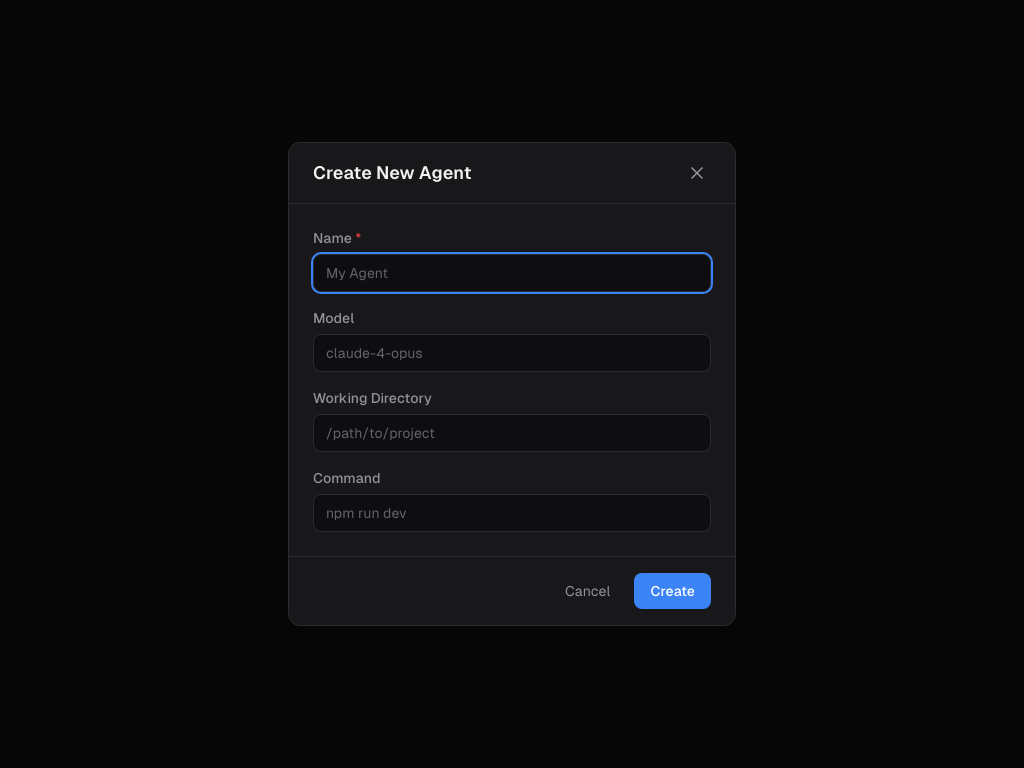
Test: AgentCreateDialog › shows validation error when name is empty on submit
Step 1. Click the button "Create" → x=673, y=591, box left=634, top=573, right=711, bottom=609
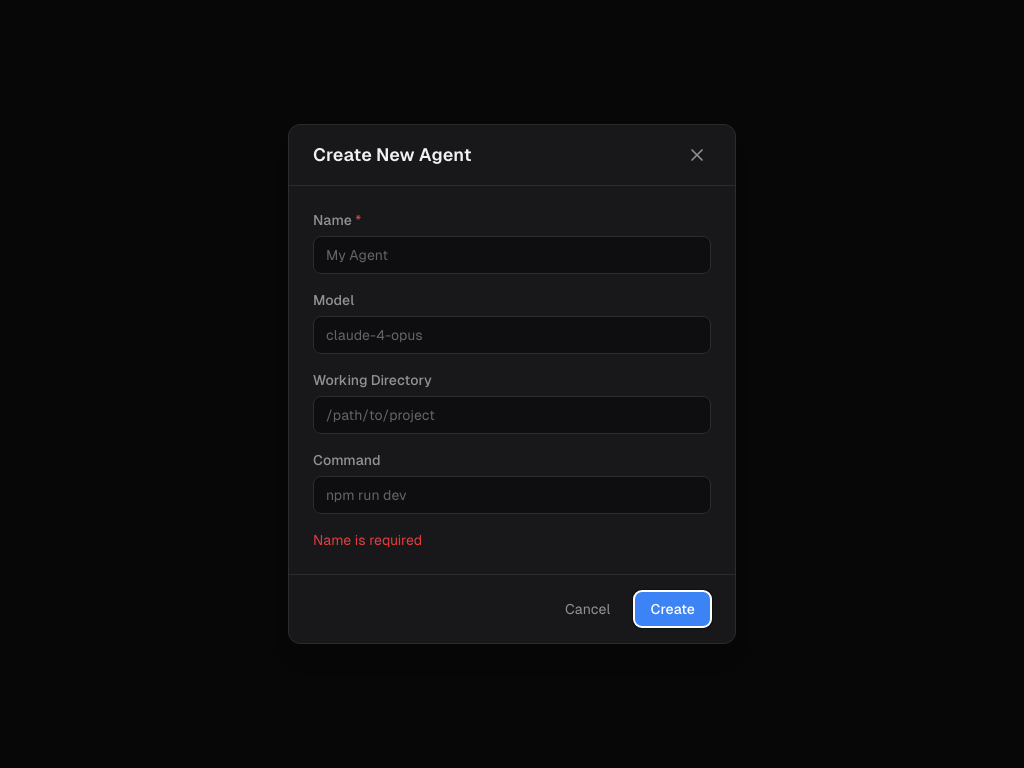
Check: the text with test id "agent-create-dialog-error" reads "Name is required", box left=313, top=532, right=422, bottom=548
